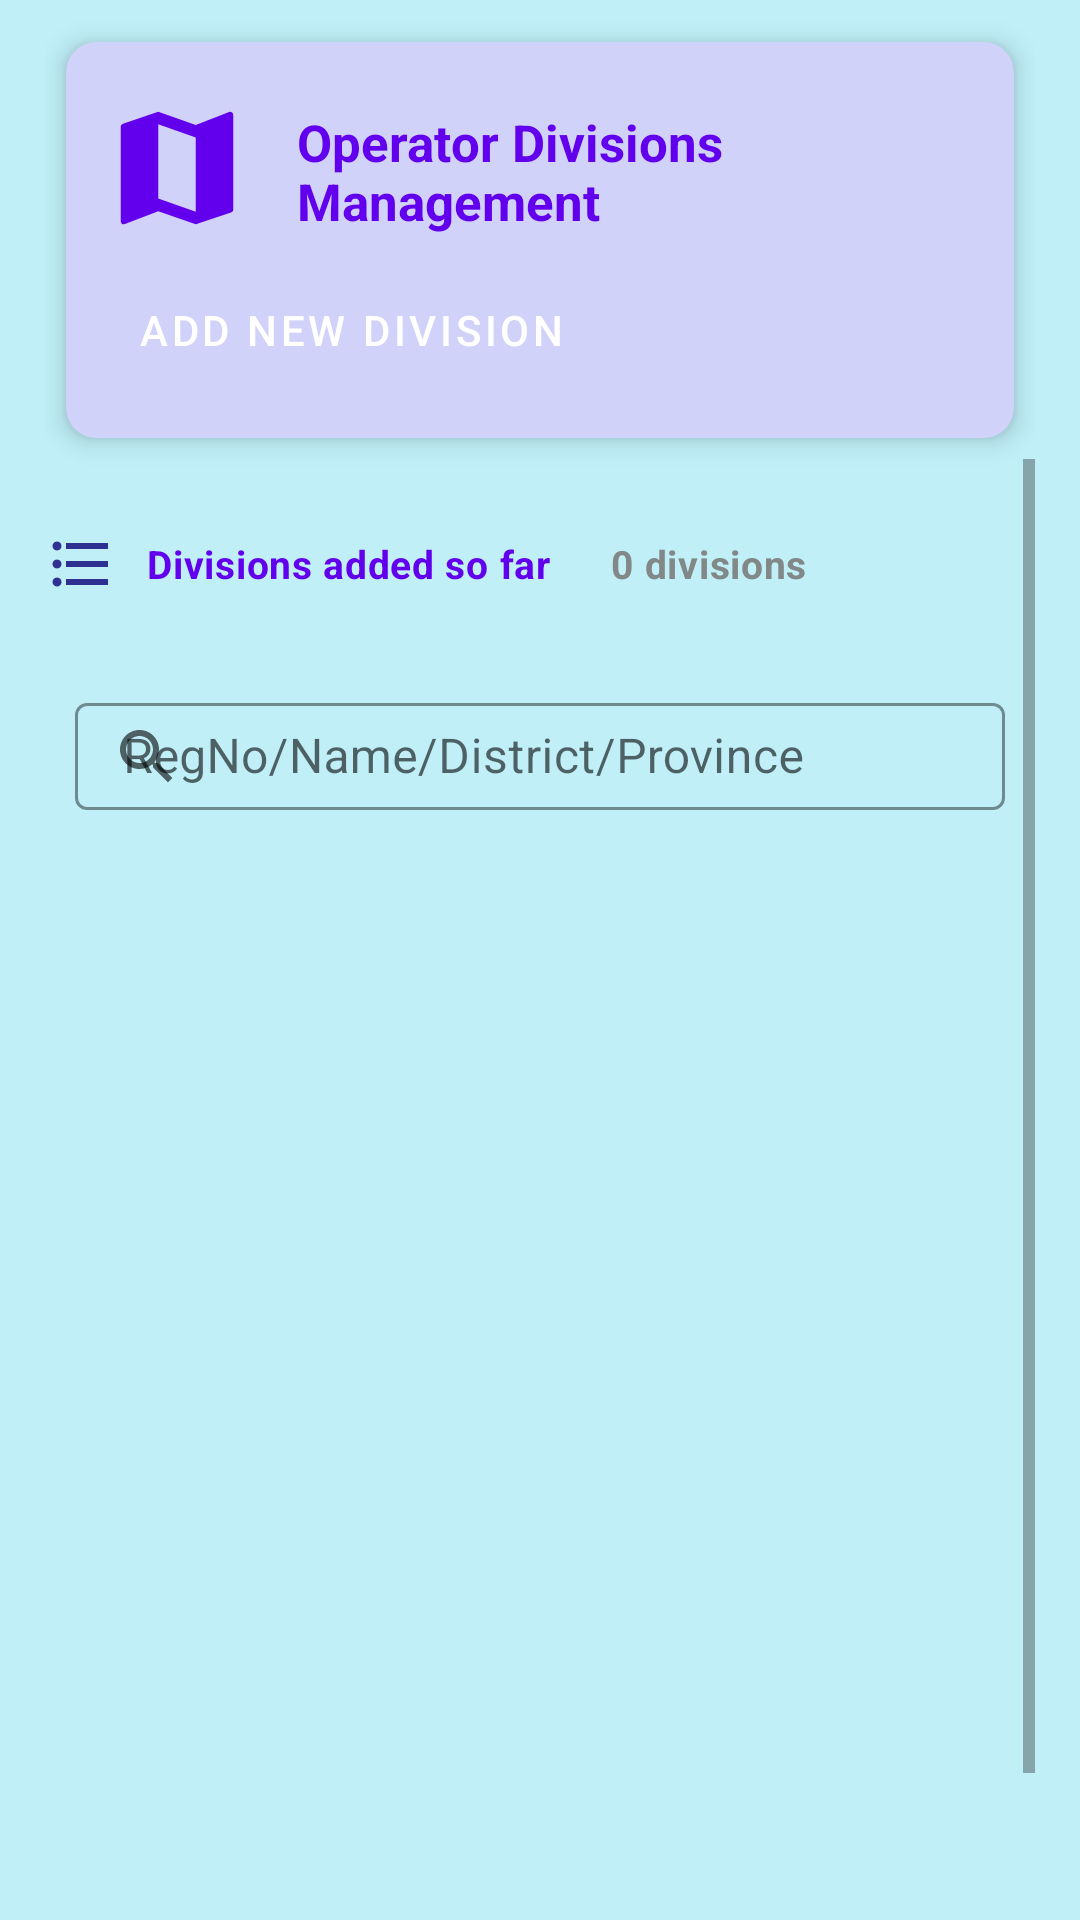

Where icons sit on this 1080 × 1920 app screen, as Rect(x1, y1, x2, y2):
format list bulleted: Rect(52, 541, 108, 587)
map: Rect(120, 111, 234, 225)
